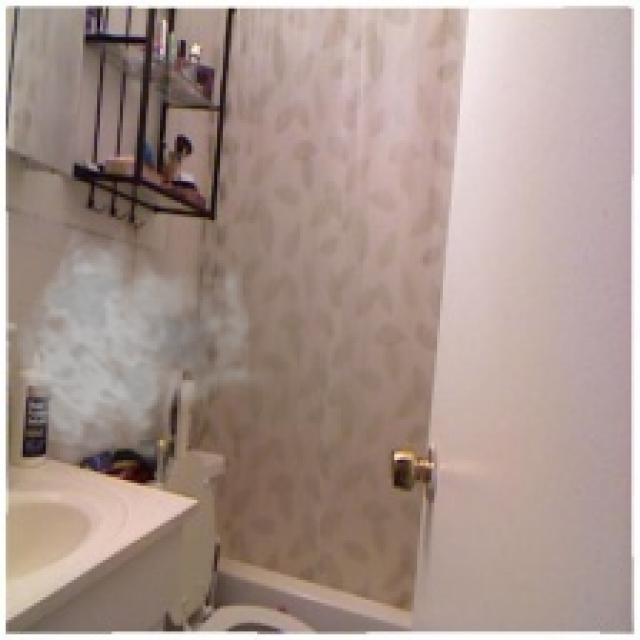Smoke: (15, 220, 272, 466)
